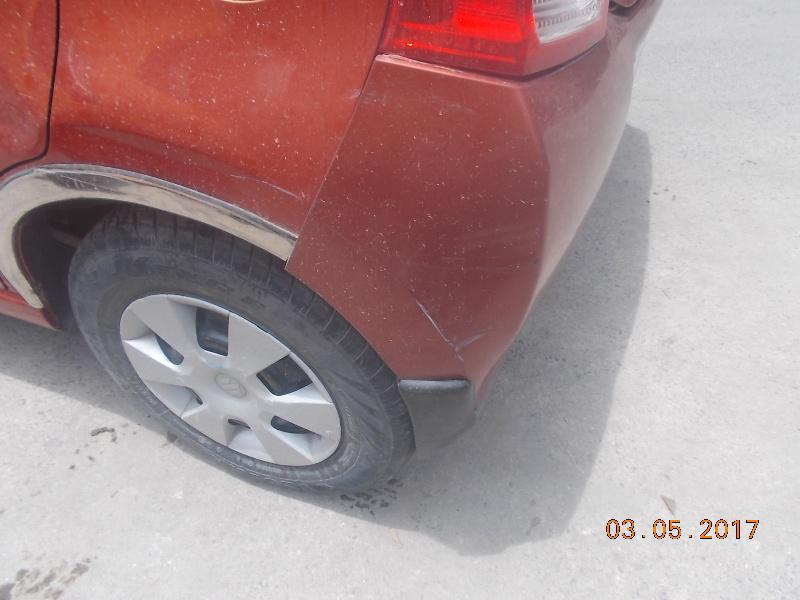rear-bumper-dent: (272, 85, 591, 481)
